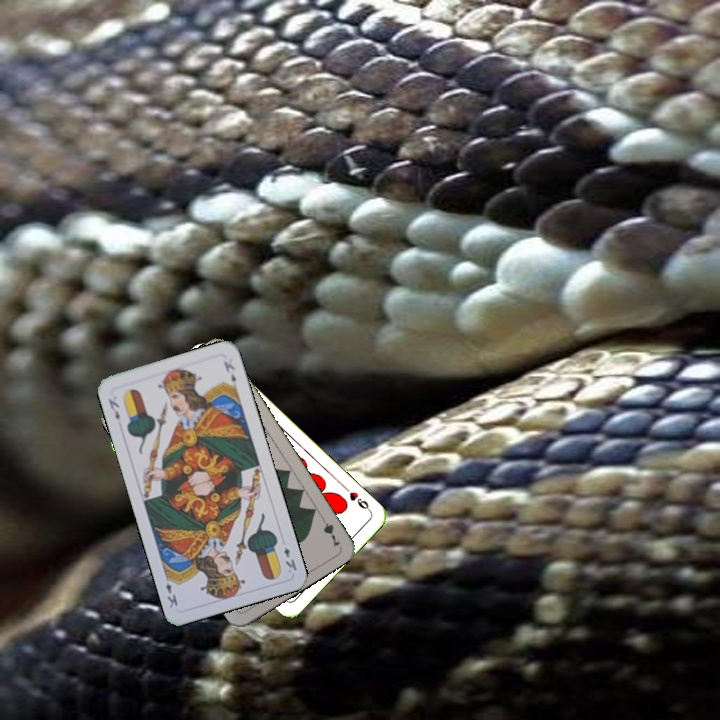EK: (280, 544, 299, 576), (104, 394, 122, 422)
G7: (316, 511, 343, 549)
H9: (341, 483, 374, 514)
